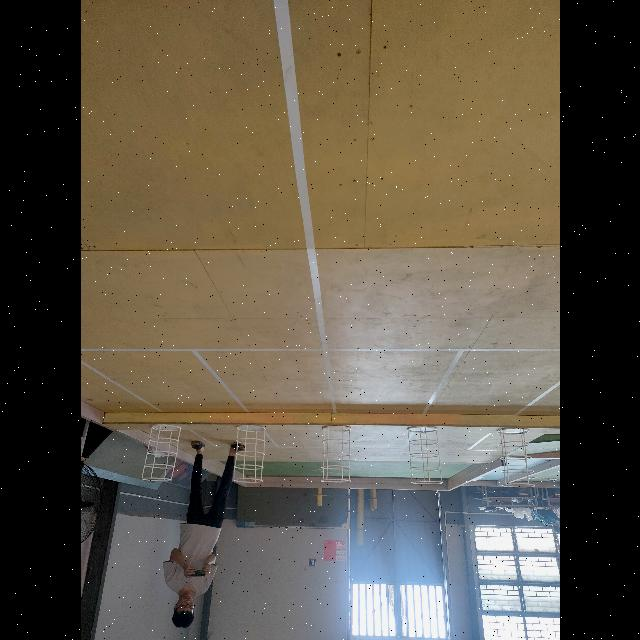S: (139, 424, 182, 483), (231, 423, 268, 484), (406, 424, 442, 486), (319, 424, 351, 484)
